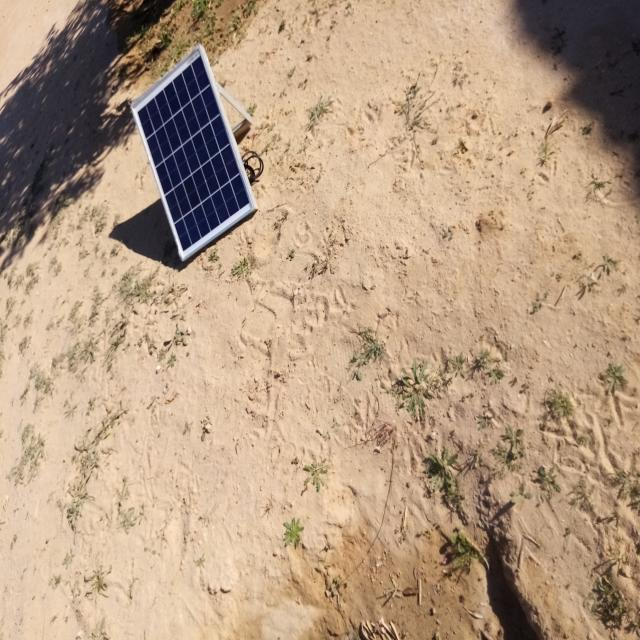no faulty: (131, 46, 255, 261)
